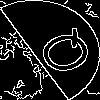Q: (24, 25, 100, 84)
